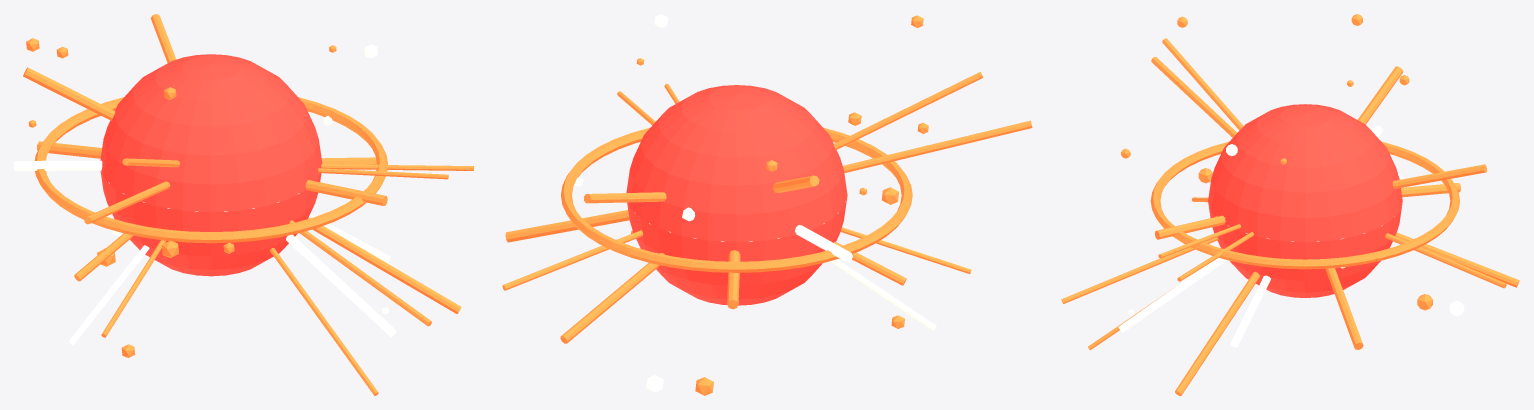
The model's file is laser_red_impact.glb.
The picture shows the model from 3 angles, left to right: view 1: azimuth 30°, elevation 25°; view 2: azimuth 150°, elevation 25°; view 3: azimuth 270°, elevation 25°; orthographic projection. The views are drawn at different scales.
Parts seen in each view (by area): view 1: laser_red_impact; view 2: laser_red_impact; view 3: laser_red_impact.
Part boxes in pixels (<box>): laser_red_impact: <box>14,14,473,395</box>; laser_red_impact: <box>502,14,1032,395</box>; laser_red_impact: <box>1061,14,1519,395</box>.
Bounding box in the file's own units: 1.53 × 1.09 × 1.68.
